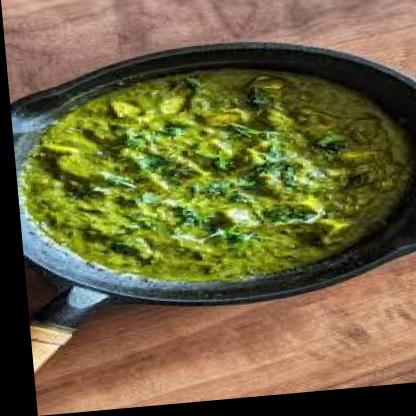palak_paneer: (13, 60, 414, 299)
